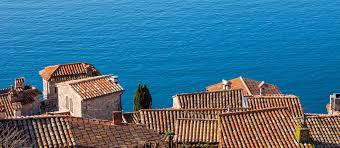sea: (2, 1, 338, 112)
vilage: (8, 73, 337, 146)
